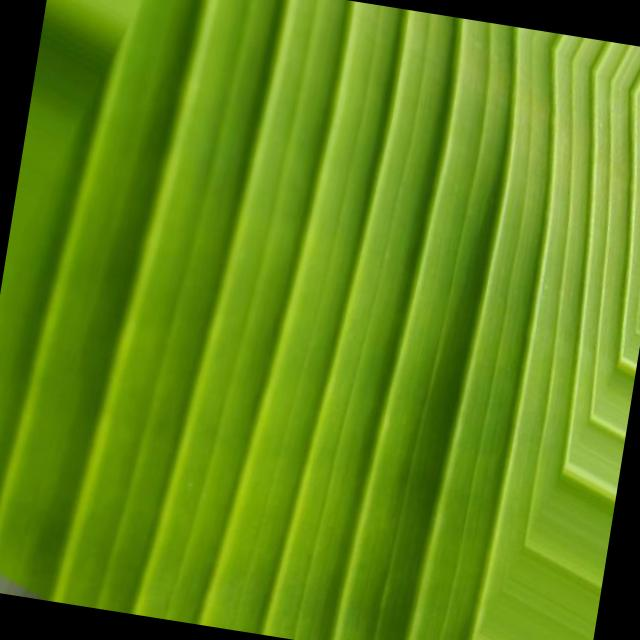Banana_Healthy: (106, 72, 592, 618)
